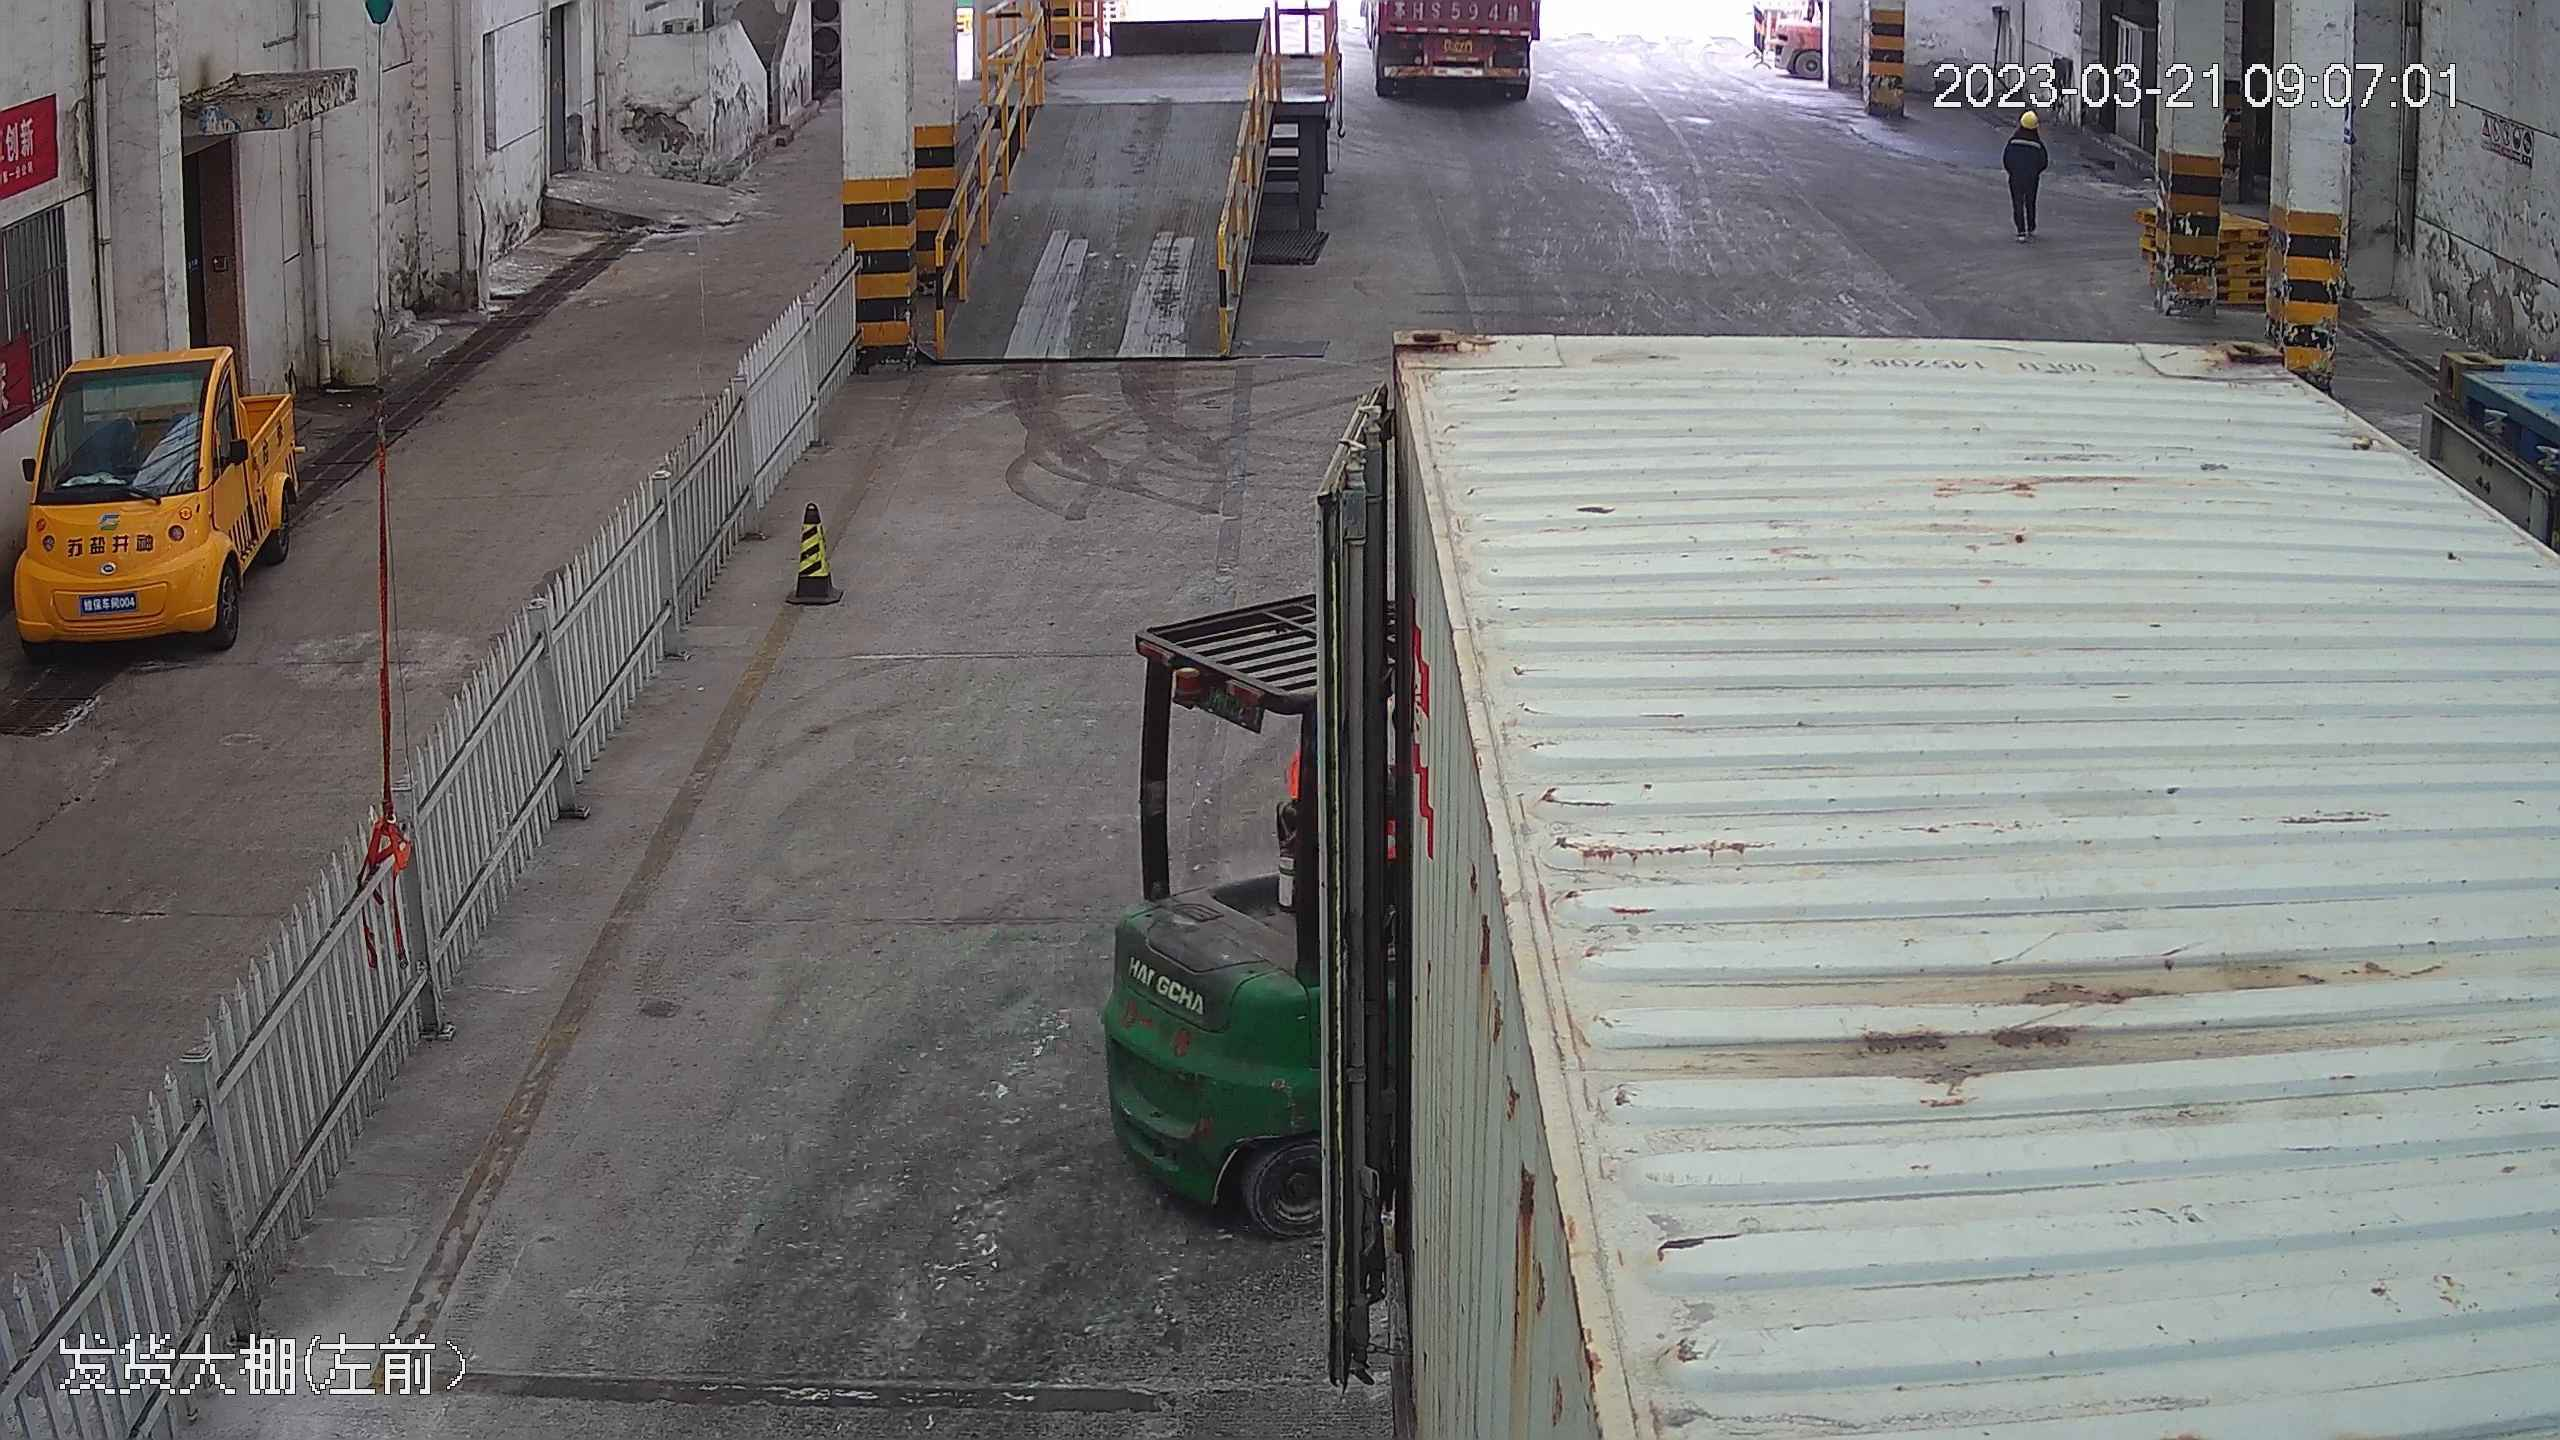head: (2005, 107, 2049, 156)
helmet: (2018, 108, 2040, 126)
people: (2000, 106, 2052, 242)
truck: (1302, 296, 2553, 1440)
